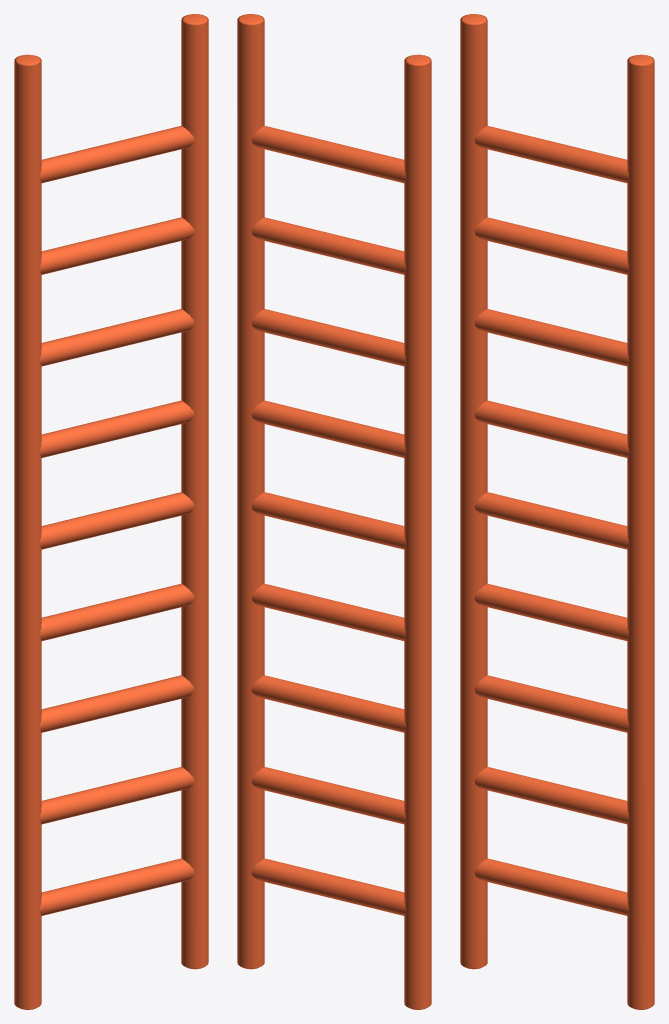
Rendered from Public_11_Firefighter_Ladder_1.glb.
The picture shows the model from 3 angles, left to right: view 1: azimuth 30°, elevation 25°; view 2: azimuth 150°, elevation 25°; view 3: azimuth 330°, elevation 25°; orthographic projection.
Visible parts, largest first — view 1: Public_11_Firefighter_Ladder_1; view 2: Public_11_Firefighter_Ladder_1; view 3: Public_11_Firefighter_Ladder_1.
Part boxes in pixels (x1,y1,x2,y2): Public_11_Firefighter_Ladder_1: (14, 14, 208, 1009); Public_11_Firefighter_Ladder_1: (237, 14, 431, 1009); Public_11_Firefighter_Ladder_1: (460, 14, 654, 1009).
Size of the model in its own units: 1.31 by 6.2 by 0.163.
1 material, 1 textured.
